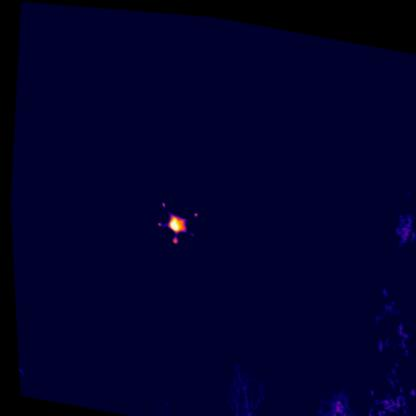drone: (152, 198, 196, 242)
